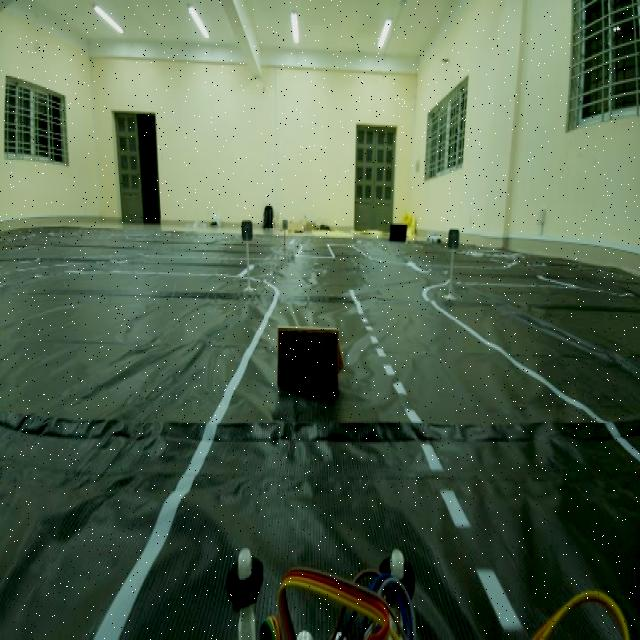roadblock: (270, 314, 354, 407)
